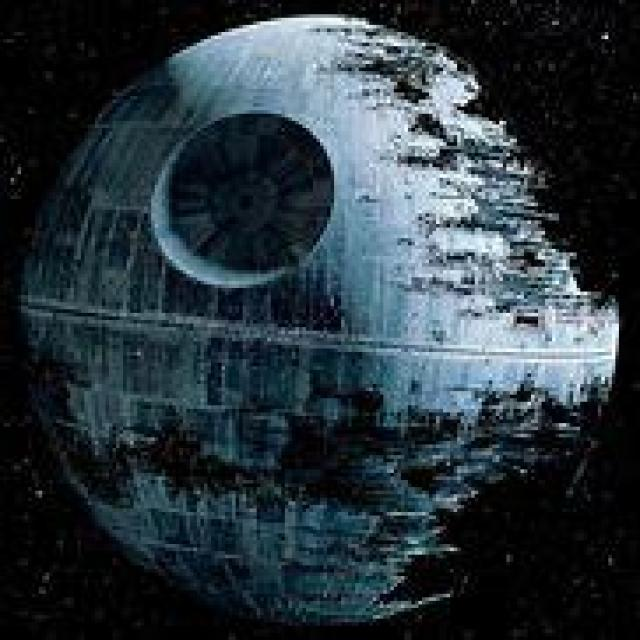Death Star: (32, 12, 619, 621)
